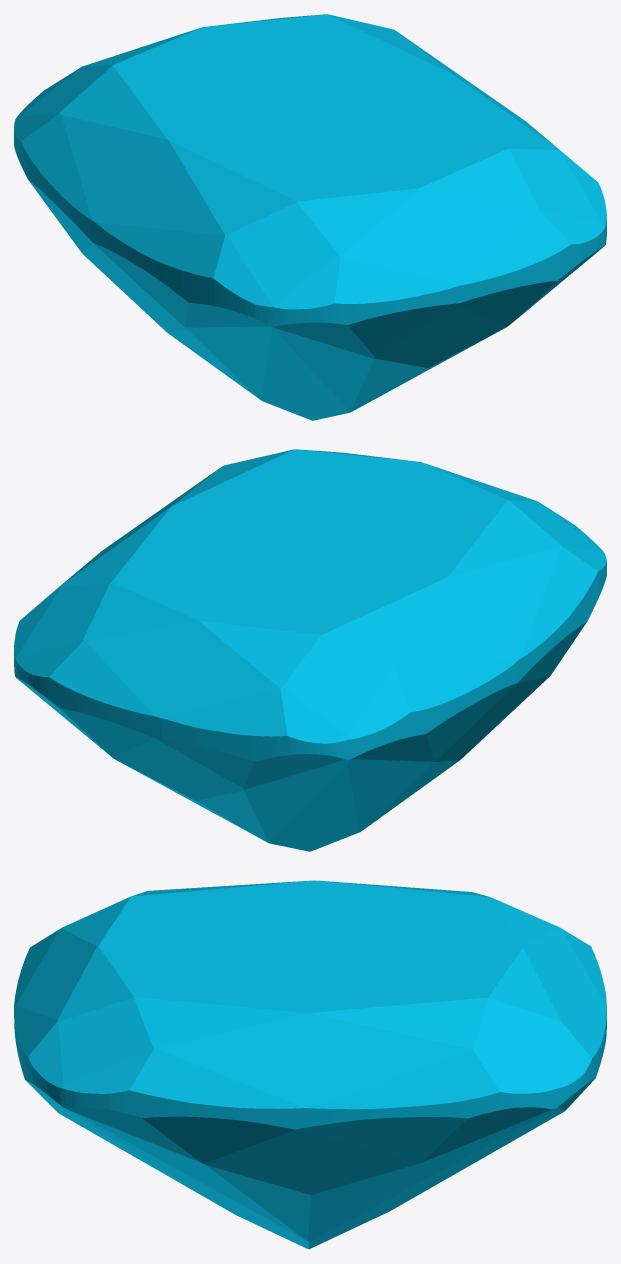
File: Head_No Halo_Elongated Cushion_1.5ct_Diamond.glb
3 views of the same model, one above another, from view 1: azimuth 30°, elevation 25°; view 2: azimuth 150°, elevation 25°; view 3: azimuth 270°, elevation 25° (orthographic). The views are drawn at different scales.
Size of the model in its own units: 0.00576 by 0.00404 by 0.00718.
